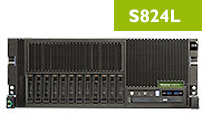ibm-server: (4, 34, 200, 112)
